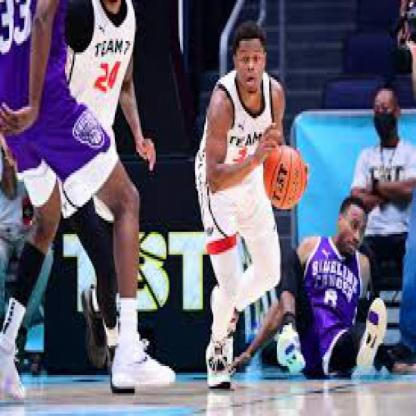basketball: (263, 145, 304, 212)
